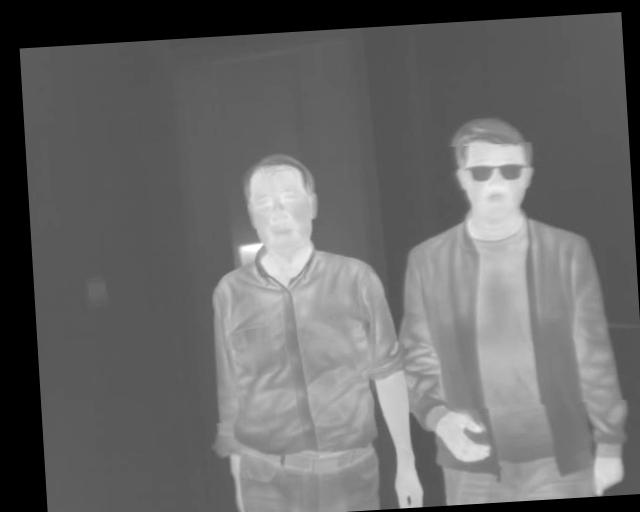face: (449, 112, 538, 225), (241, 149, 323, 261)
